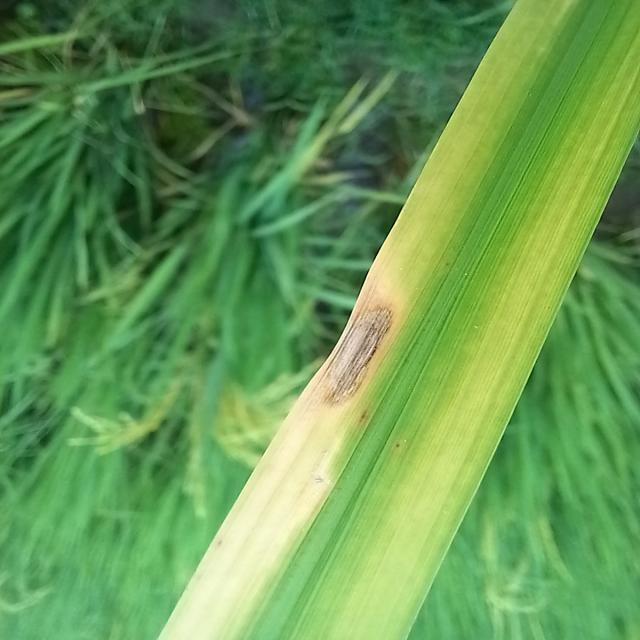Leaf_Blast: (298, 289, 405, 410)
